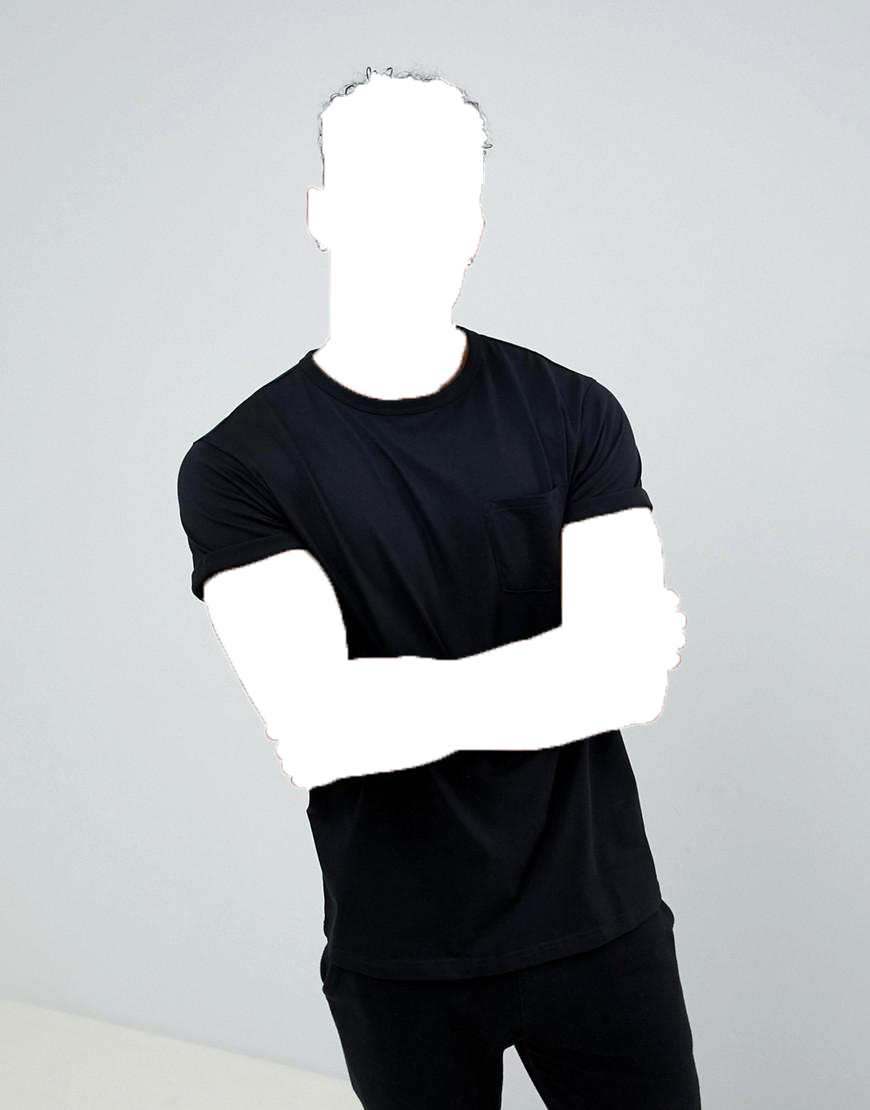teeshirt: (179, 325, 701, 956)
